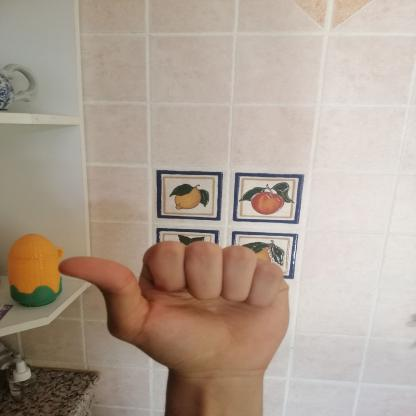DAD: (43, 230, 306, 386)
